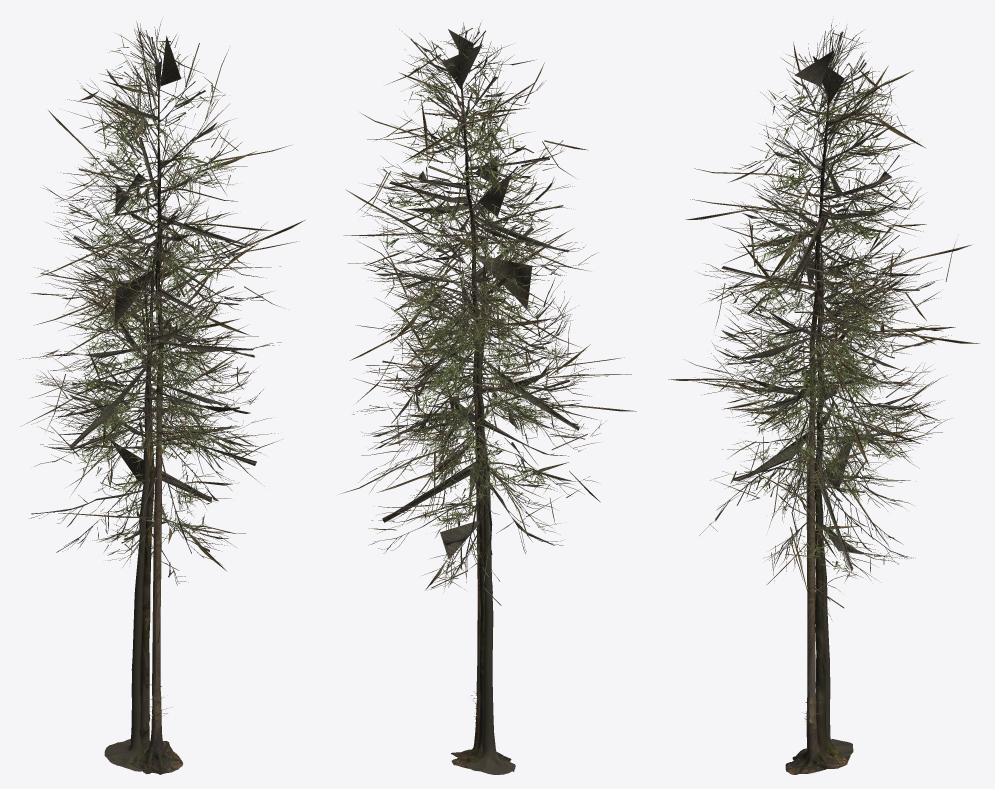
Rendered from fir_tree_01_lod1.glb.
The picture shows the model from 3 angles, left to right: view 1: azimuth 30°, elevation 25°; view 2: azimuth 150°, elevation 25°; view 3: azimuth 270°, elevation 25°; orthographic projection. The views are drawn at different scales.
Visible parts, largest first — view 1: fir_tree_01_a_LOD0.003, fir_tree_01_a_LOD0.001, fir_tree_01_a_LOD0.002, fir_tree_01_c_LOD0, fir_tree_01_b_LOD0.002; view 2: fir_tree_01_a_LOD0.003, fir_tree_01_a_LOD0.001, fir_tree_01_c_LOD0, fir_tree_01_b_LOD0.002, fir_tree_01_a_LOD0.002; view 3: fir_tree_01_a_LOD0.003, fir_tree_01_a_LOD0.001, fir_tree_01_a_LOD0.002, fir_tree_01_b_LOD0.002, fir_tree_01_c_LOD0.
Part boxes in pixels (bbox=[...]): fir_tree_01_a_LOD0.003: bbox=[20, 20, 304, 582]; fir_tree_01_a_LOD0.001: bbox=[28, 27, 267, 585]; fir_tree_01_a_LOD0.002: bbox=[126, 69, 183, 774]; fir_tree_01_c_LOD0: bbox=[104, 243, 156, 771]; fir_tree_01_b_LOD0.002: bbox=[121, 273, 163, 770]; fir_tree_01_a_LOD0.003: bbox=[340, 22, 636, 590]; fir_tree_01_a_LOD0.001: bbox=[359, 26, 600, 605]; fir_tree_01_c_LOD0: bbox=[463, 228, 515, 774]; fir_tree_01_b_LOD0.002: bbox=[451, 263, 511, 771]; fir_tree_01_a_LOD0.002: bbox=[451, 60, 508, 763]; fir_tree_01_a_LOD0.003: bbox=[668, 22, 979, 619]; fir_tree_01_a_LOD0.001: bbox=[710, 30, 944, 611]; fir_tree_01_a_LOD0.002: bbox=[785, 75, 835, 774]; fir_tree_01_b_LOD0.002: bbox=[796, 266, 850, 768]; fir_tree_01_c_LOD0: bbox=[814, 240, 853, 760].
Bounding box in the file's own units: 7.74 × 18.78 × 7.15.
Materials: 6 (6 with a texture image).
